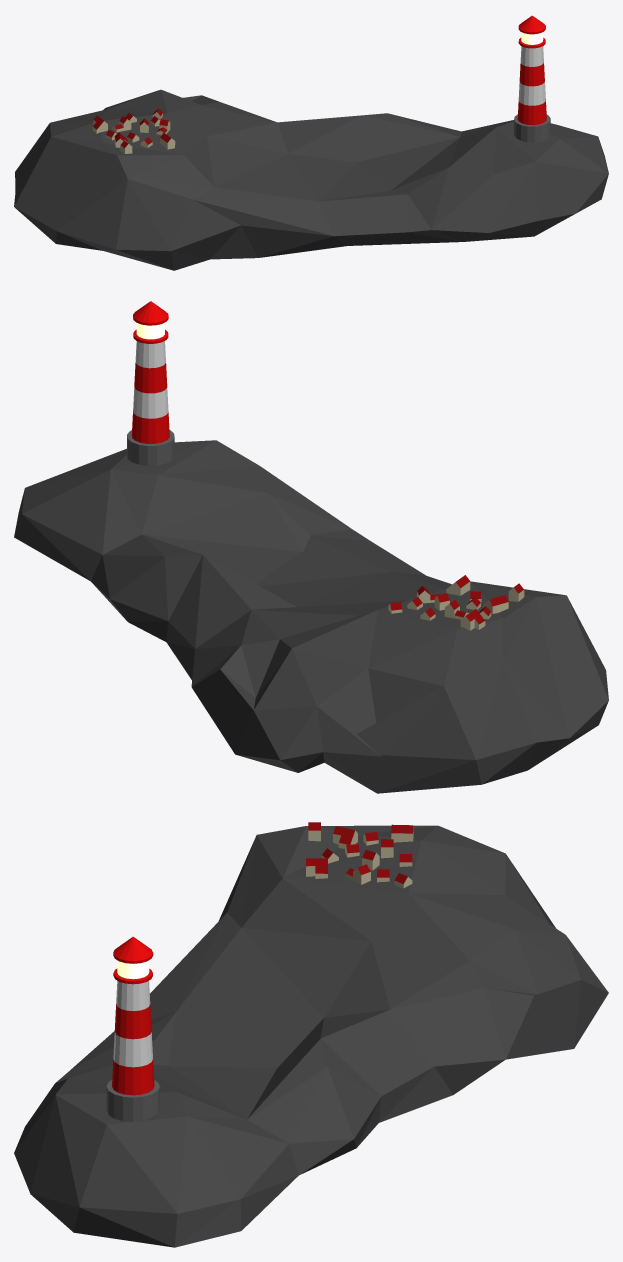
The model's file is lighthouse.glb.
3 renders of one model, top to bottom at view 1: azimuth 30°, elevation 25°; view 2: azimuth 150°, elevation 25°; view 3: azimuth 270°, elevation 25°, orthographic. The views are drawn at different scales.
Parts seen in each view (by area): view 1: BASE ROCKS, Lighthouse; view 2: BASE ROCKS, Lighthouse; view 3: BASE ROCKS, Lighthouse.
Part boxes in pixels (box(x1,y1,x2,y2)): BASE ROCKS: box(14, 89, 608, 270); Lighthouse: box(514, 15, 550, 142); BASE ROCKS: box(14, 440, 608, 793); Lighthouse: box(127, 301, 174, 465); BASE ROCKS: box(14, 825, 608, 1247); Lighthouse: box(106, 936, 159, 1121).
Size of what is drawn, in the model's own units: 17.23 by 6.68 by 12.1.
